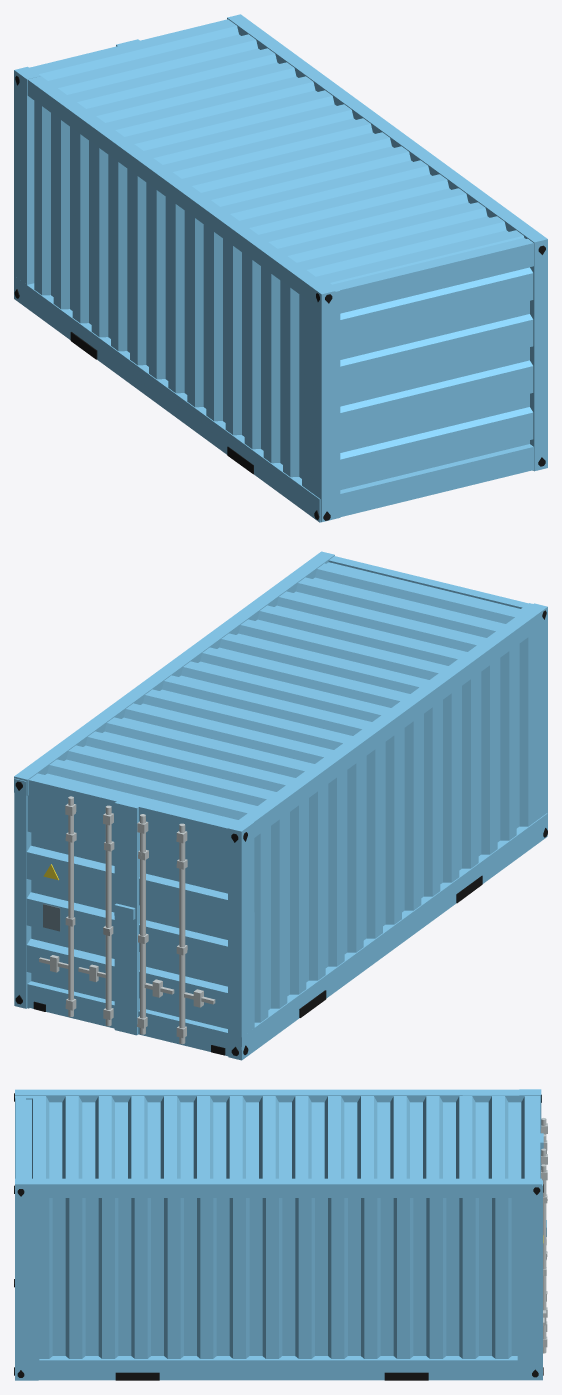
Rendered from 5Con.fbx.
3 views of the same model, one above another, from view 1: azimuth 30°, elevation 25°; view 2: azimuth 150°, elevation 25°; view 3: azimuth 270°, elevation 25° (orthographic). The views are drawn at different scales.
Visible parts, largest first — view 1: Node; view 2: Node; view 3: Node.
Part boxes in pixels (x1=…): Node: x1=14, y1=14, x2=547, y2=522; Node: x1=14, y1=551, x2=547, y2=1060; Node: x1=14, y1=1089, x2=547, y2=1380.
Bounding box in the file's own units: 134 × 128 × 316.
